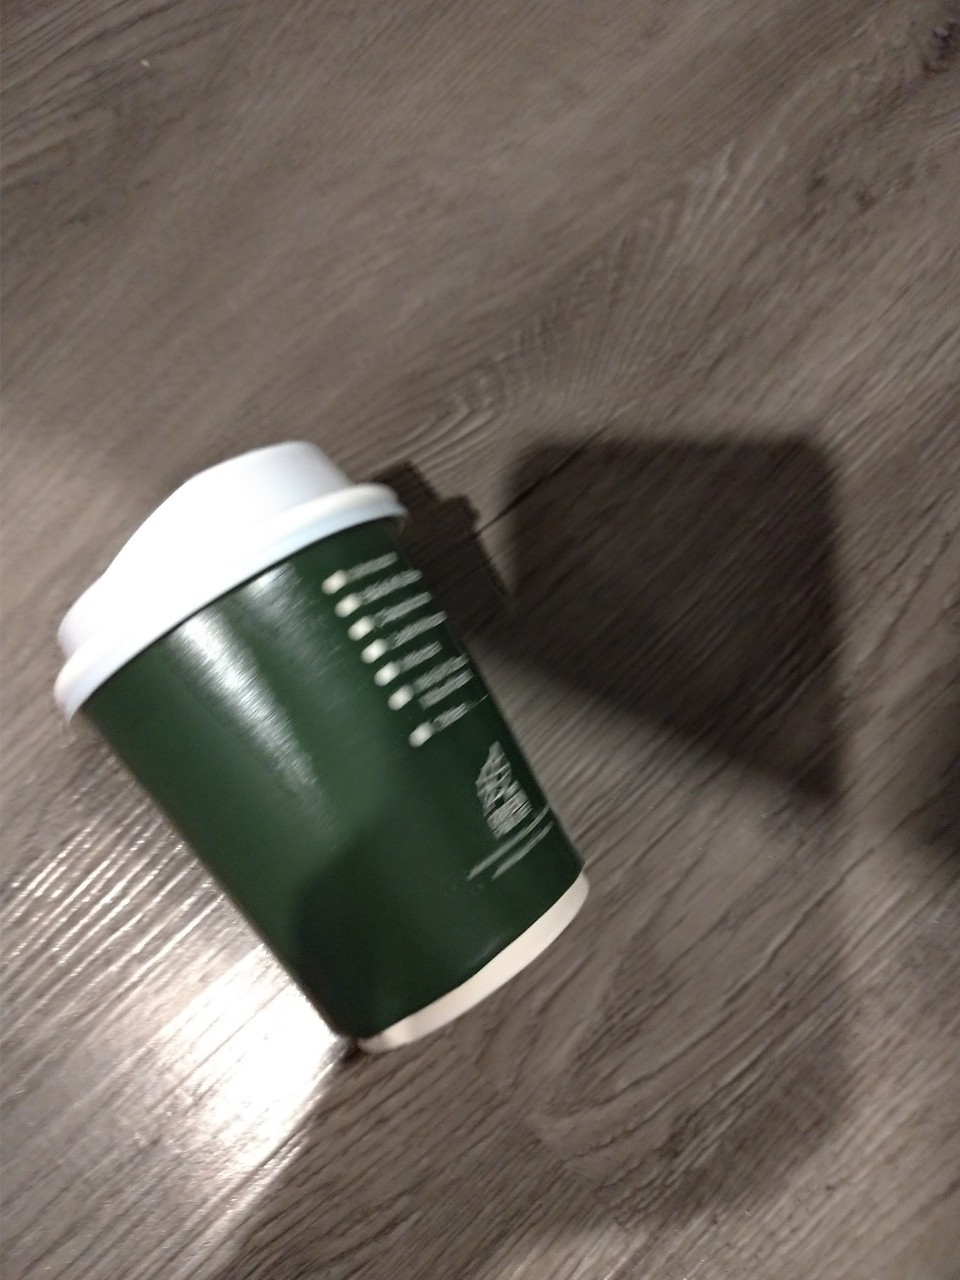PaperCup: (57, 435, 591, 1049)
